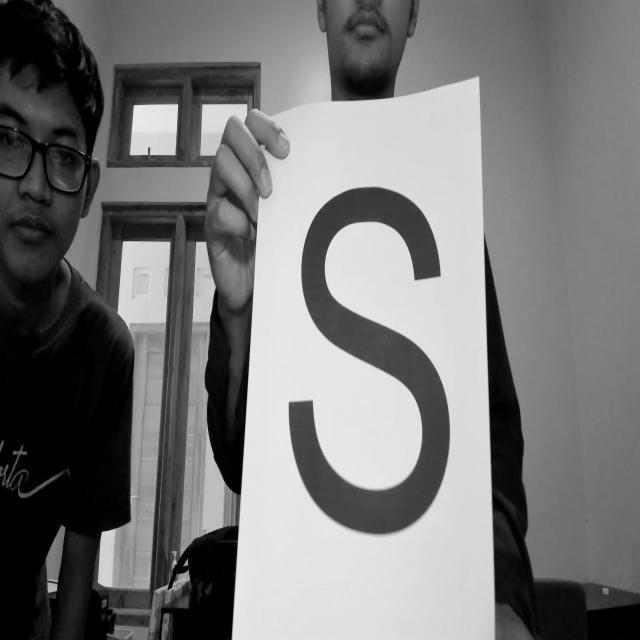s: (275, 176, 466, 545)
